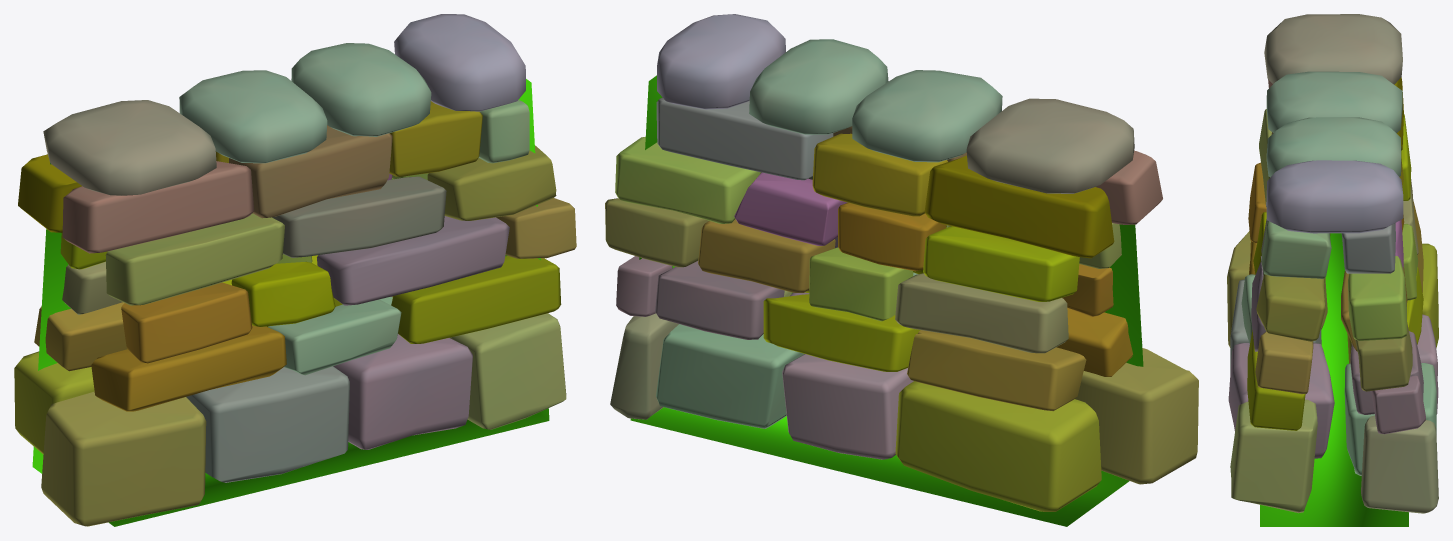
Rendered from SM_Prop_wall_stone_15.glb.
3 renders of one model, left to right at view 1: azimuth 30°, elevation 25°; view 2: azimuth 150°, elevation 25°; view 3: azimuth 270°, elevation 25°, orthographic. The views are drawn at different scales.
Parts seen in each view (by area): view 1: SM_Prop_wall_stone_15; view 2: SM_Prop_wall_stone_15; view 3: SM_Prop_wall_stone_15.
Part boxes in pixels (x1=…): SM_Prop_wall_stone_15: x1=14, y1=14, x2=576, y2=526; SM_Prop_wall_stone_15: x1=605, y1=14, x2=1198, y2=526; SM_Prop_wall_stone_15: x1=1227, y1=14, x2=1438, y2=526.
Bounding box in the file's own units: 2.3 × 1.58 × 0.9105.
